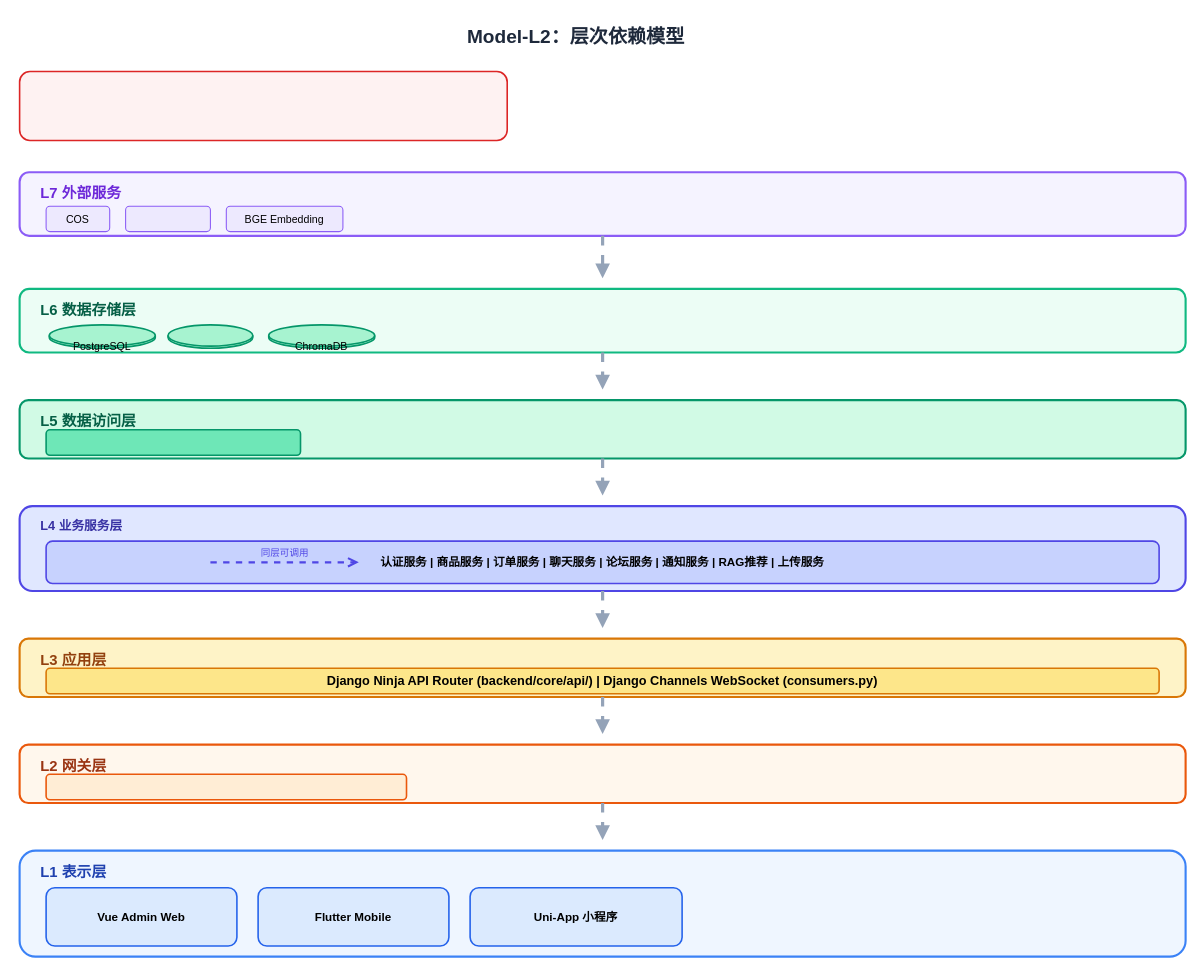
This 1204x975 diagram has some shape labels left out. Here are the shapes that lost their labels. From the top down, the box of each, then its label:
(18, 70, 508, 141): 架构约束 1. 上层依赖下层，禁止反向依赖 2. 同层组件间可互相调用 3. 跨层调用必须经过相邻层
(125, 205, 210, 232): DeepSeek
(167, 324, 253, 349): Redis
(45, 429, 301, 456): Django ORM (core/models.py)
(45, 773, 407, 800): Nginx (SSL 终端 · 反向代理 · 静态资源)
